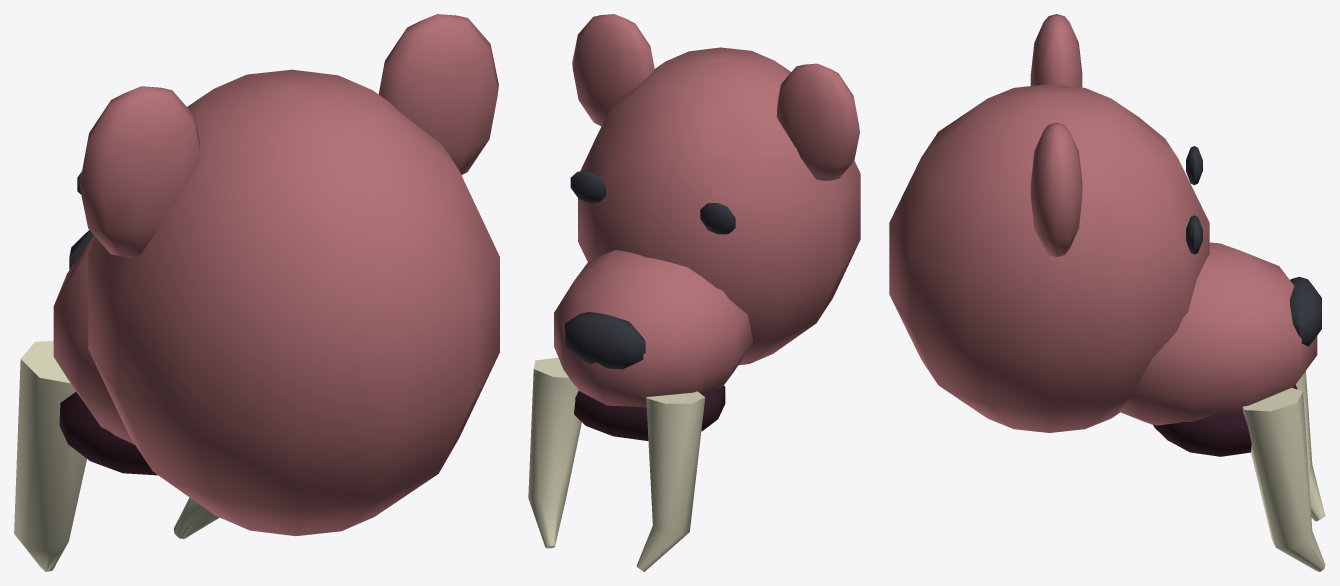
File: chimera_d_head.obj
3 renders of one model, left to right at view 1: azimuth 30°, elevation 25°; view 2: azimuth 150°, elevation 25°; view 3: azimuth 270°, elevation 25°, orthographic. The views are drawn at different scales.
Visible parts, largest first — view 1: source_component_000, source_component_006, source_component_008, source_component_007, source_component_001, source_component_005, source_component_009; view 2: source_component_000, source_component_001, source_component_007, source_component_006, source_component_009, source_component_008, source_component_002, source_component_005, source_component_004, source_component_003; view 3: source_component_000, source_component_001, source_component_009, source_component_008, source_component_005, source_component_006, source_component_002, source_component_007.
Part boxes in pixels (x1,y1,x2,y2): source_component_000: (88,69,499,536); source_component_006: (80,86,200,257); source_component_008: (378,14,498,174); source_component_007: (14,340,86,571); source_component_001: (53,236,134,444); source_component_005: (59,392,157,475); source_component_009: (173,497,219,538); source_component_000: (578,47,860,365); source_component_001: (554,250,753,407); source_component_007: (636,391,705,571); source_component_006: (776,63,859,181); source_component_009: (528,357,581,548); source_component_008: (572,14,654,126); source_component_002: (565,312,645,369); source_component_005: (574,385,725,440); source_component_004: (570,171,605,202); source_component_003: (700,203,735,234); source_component_000: (889,84,1209,432); source_component_001: (1119,242,1317,425); source_component_009: (1242,388,1325,571); source_component_008: (1030,122,1082,257); source_component_005: (1153,385,1297,456); source_component_006: (1030,14,1082,87); source_component_002: (1290,276,1321,346); source_component_007: (1295,371,1324,521).
Size of the model in its own units: 0.51 by 0.735 by 0.6111.
